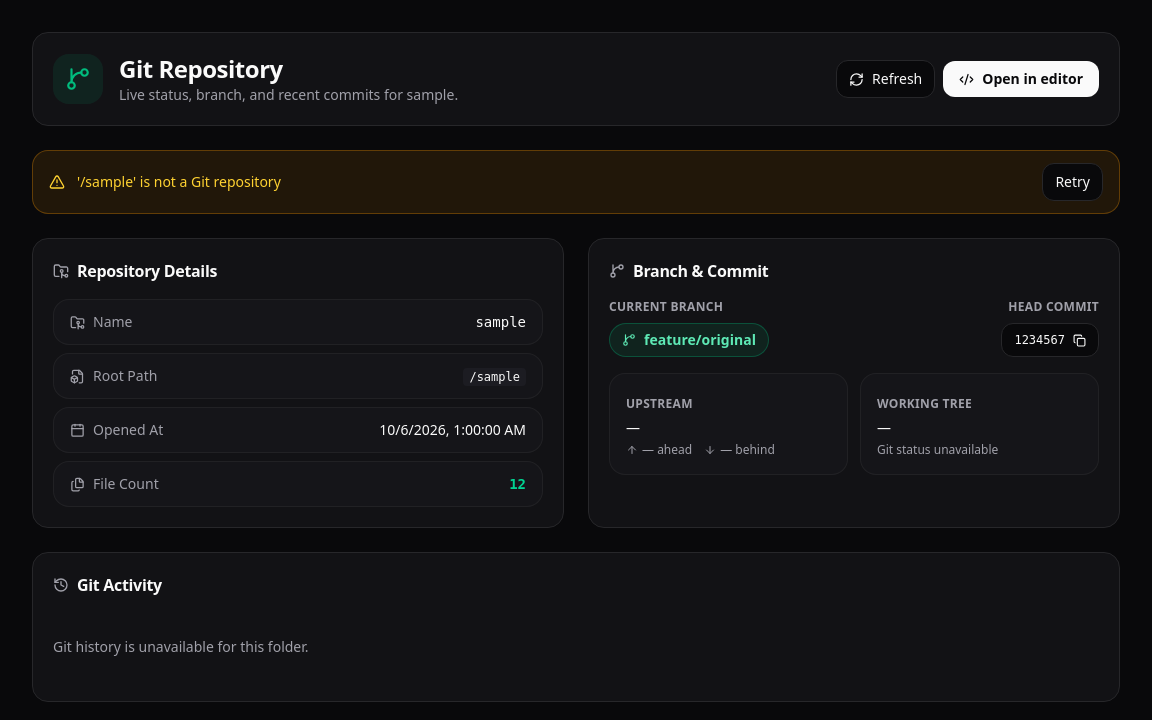
Git Repository page › reports Git errors with a retry action
The width and height of the screenshot is (1152, 720).
Expected: the message shows "is not a Git repository", [77,172,281,191]
Click the button "Retry" at point(1073, 182), box [1042,163,1103,201]
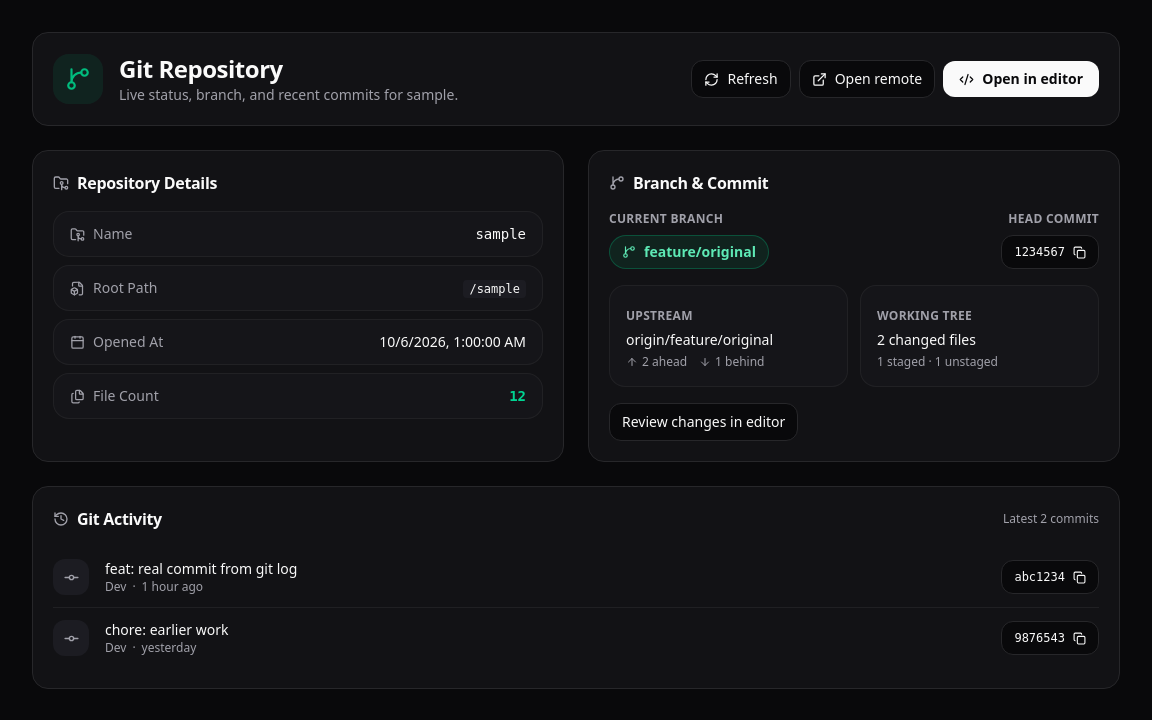
Now the text "feat: real commit from git log" is shown, box [105,559,297,578]
